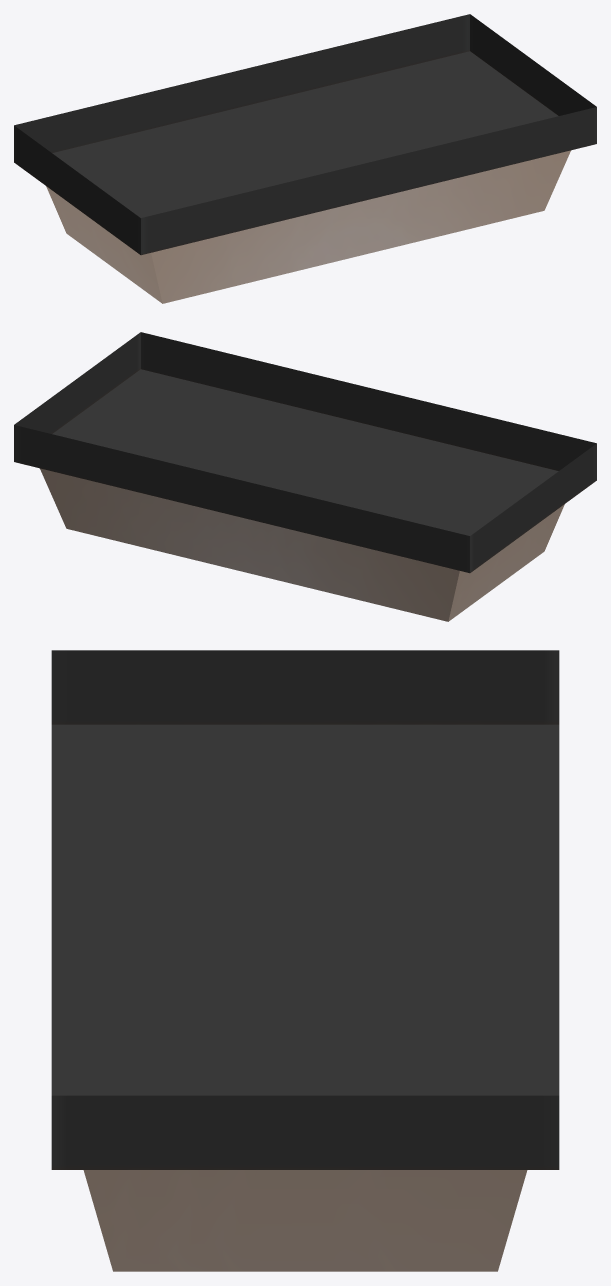
The model's file is Lamp_ceiling_2.fbx.
3 renders of one model, top to bottom at view 1: azimuth 30°, elevation 25°; view 2: azimuth 150°, elevation 25°; view 3: azimuth 270°, elevation 25°, orthographic. The views are drawn at different scales.
Visible parts, largest first — view 1: polySurface1489; view 2: polySurface1489; view 3: polySurface1489.
Boxes of the visible parts, x1,y1,x2,y2 form: polySurface1489: (14,14,596,303); polySurface1489: (14,332,596,621); polySurface1489: (51,650,559,1271).
Size of the model in its own units: 0.6978 by 0.155 by 0.3361.
